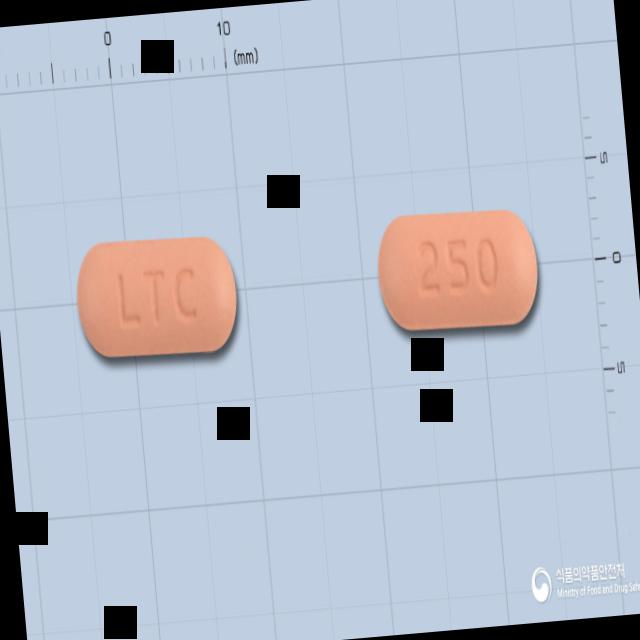Lectacin: (71, 230, 242, 364), (373, 202, 543, 336)
